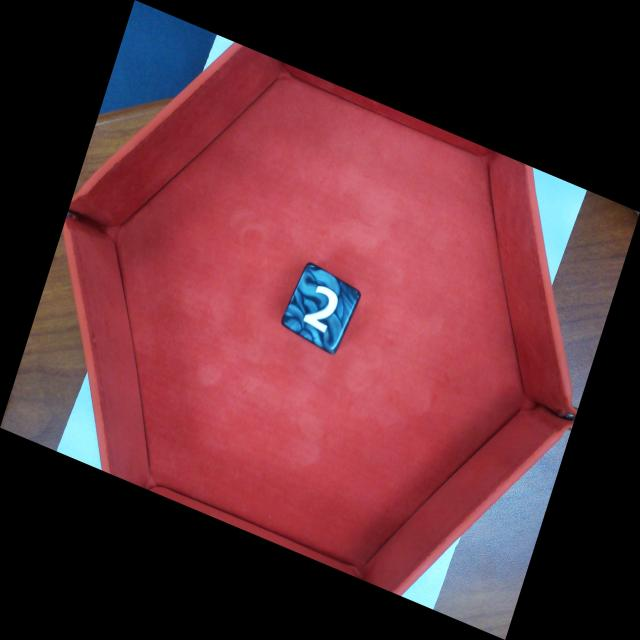dice: (279, 260, 364, 357)
